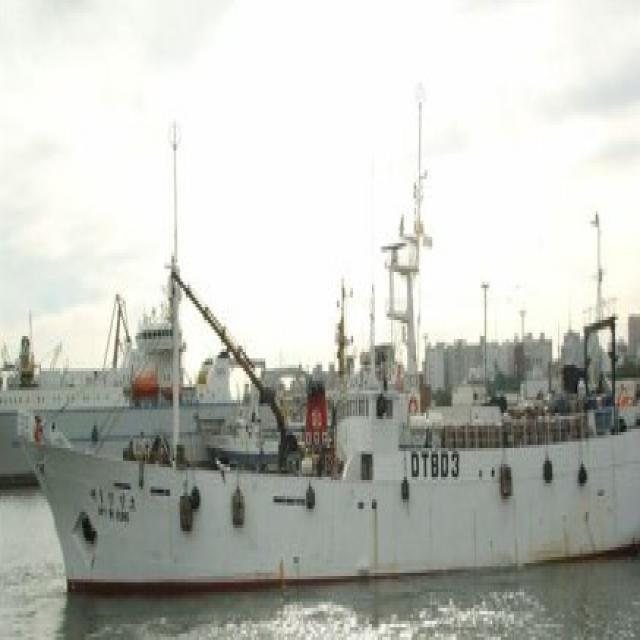Ship: (15, 218, 640, 618)
